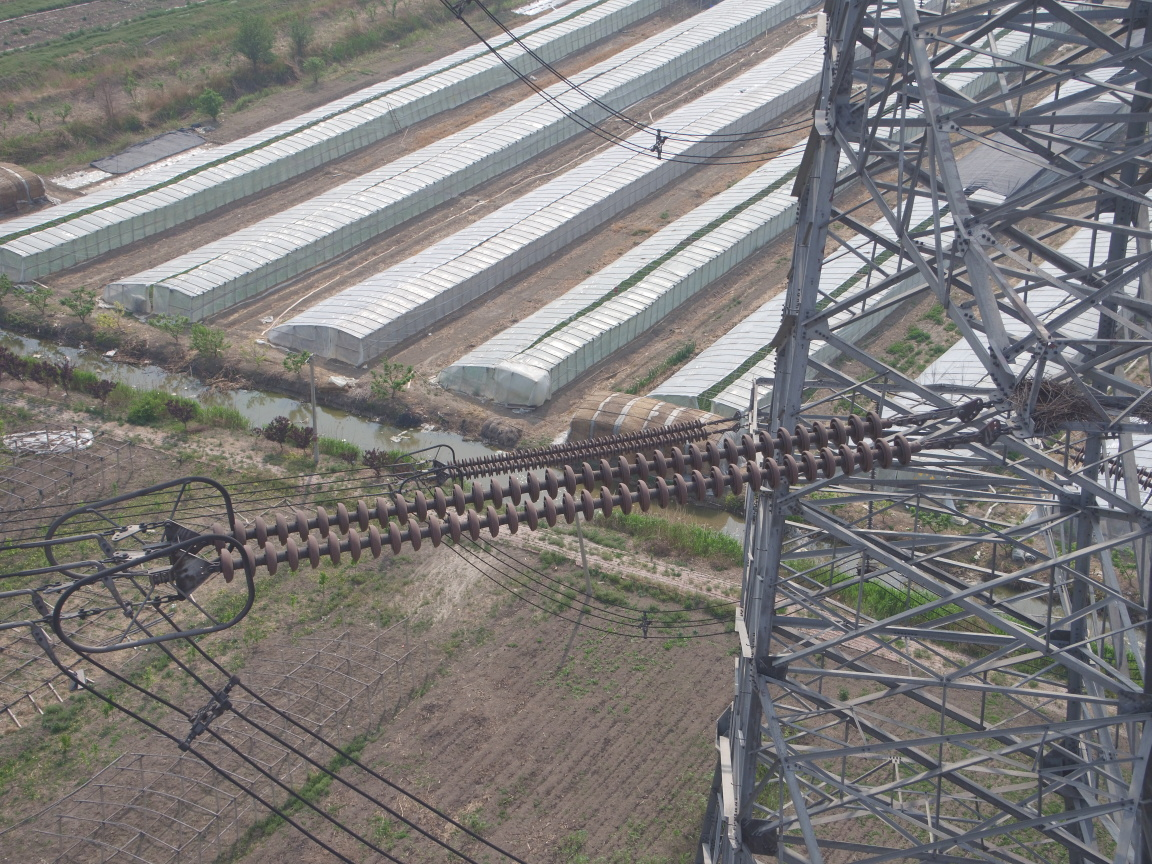insulator: (192, 408, 939, 586)
